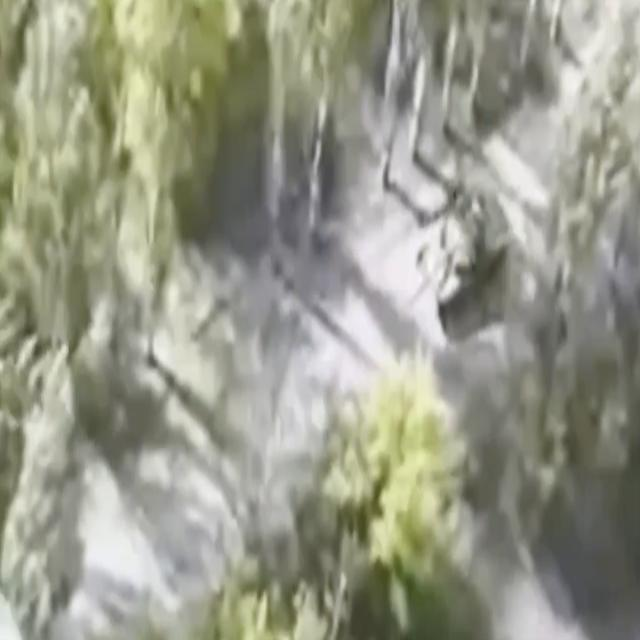vehicle: (411, 188, 511, 330)
